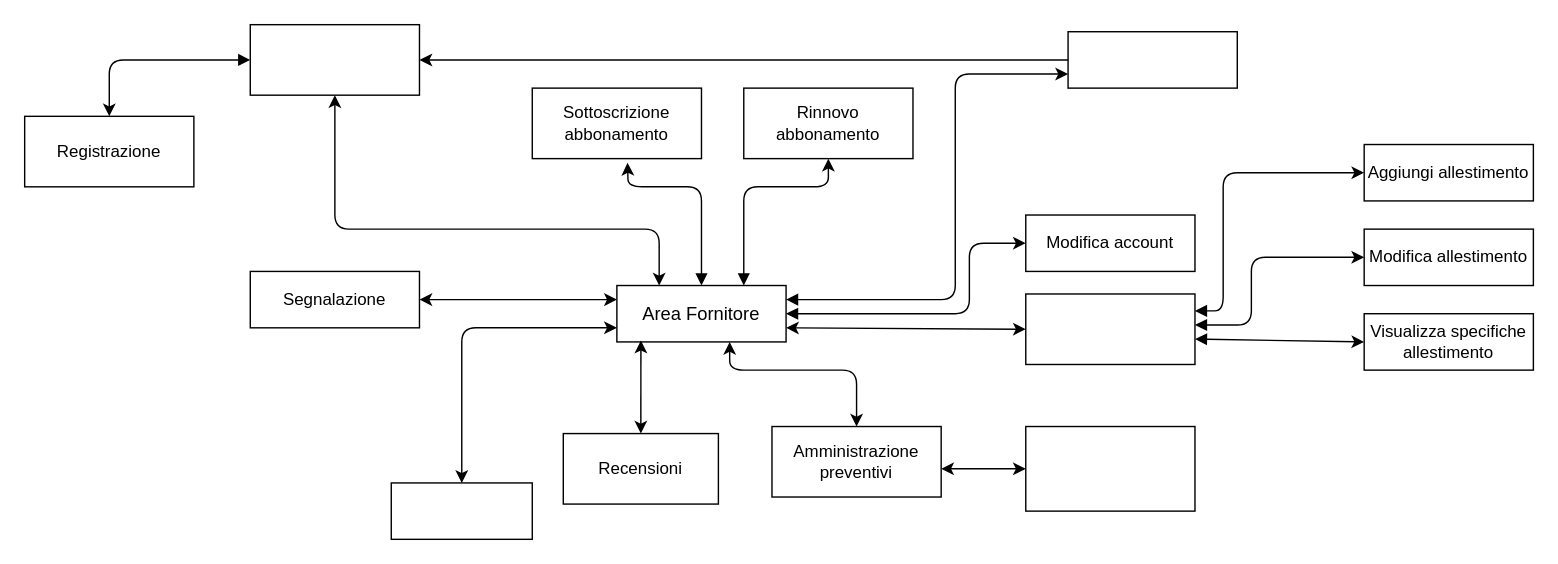
This 1558x564 diagram has some shape labels left out. The shapes that lost their labels are listed below. From the top down, each one's box as (x1, y1, x2, y2) in pixels, then its label:
(249, 23, 419, 95): Login
(1067, 30, 1237, 88): Elimina account
(1024, 293, 1195, 364): I miei allestimenti e servizi
(1024, 425, 1195, 511): Conferma richiesta e compila Preventivo
(390, 482, 532, 539): Messaggistica
